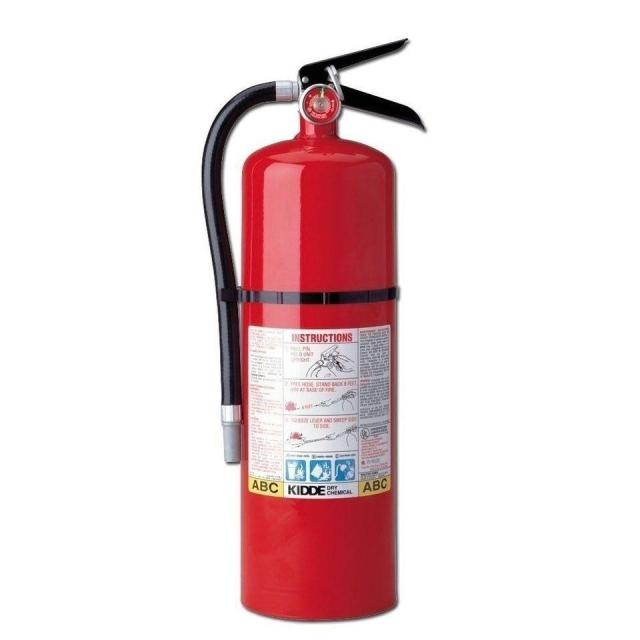fire_extinguisher: (194, 32, 432, 631)
